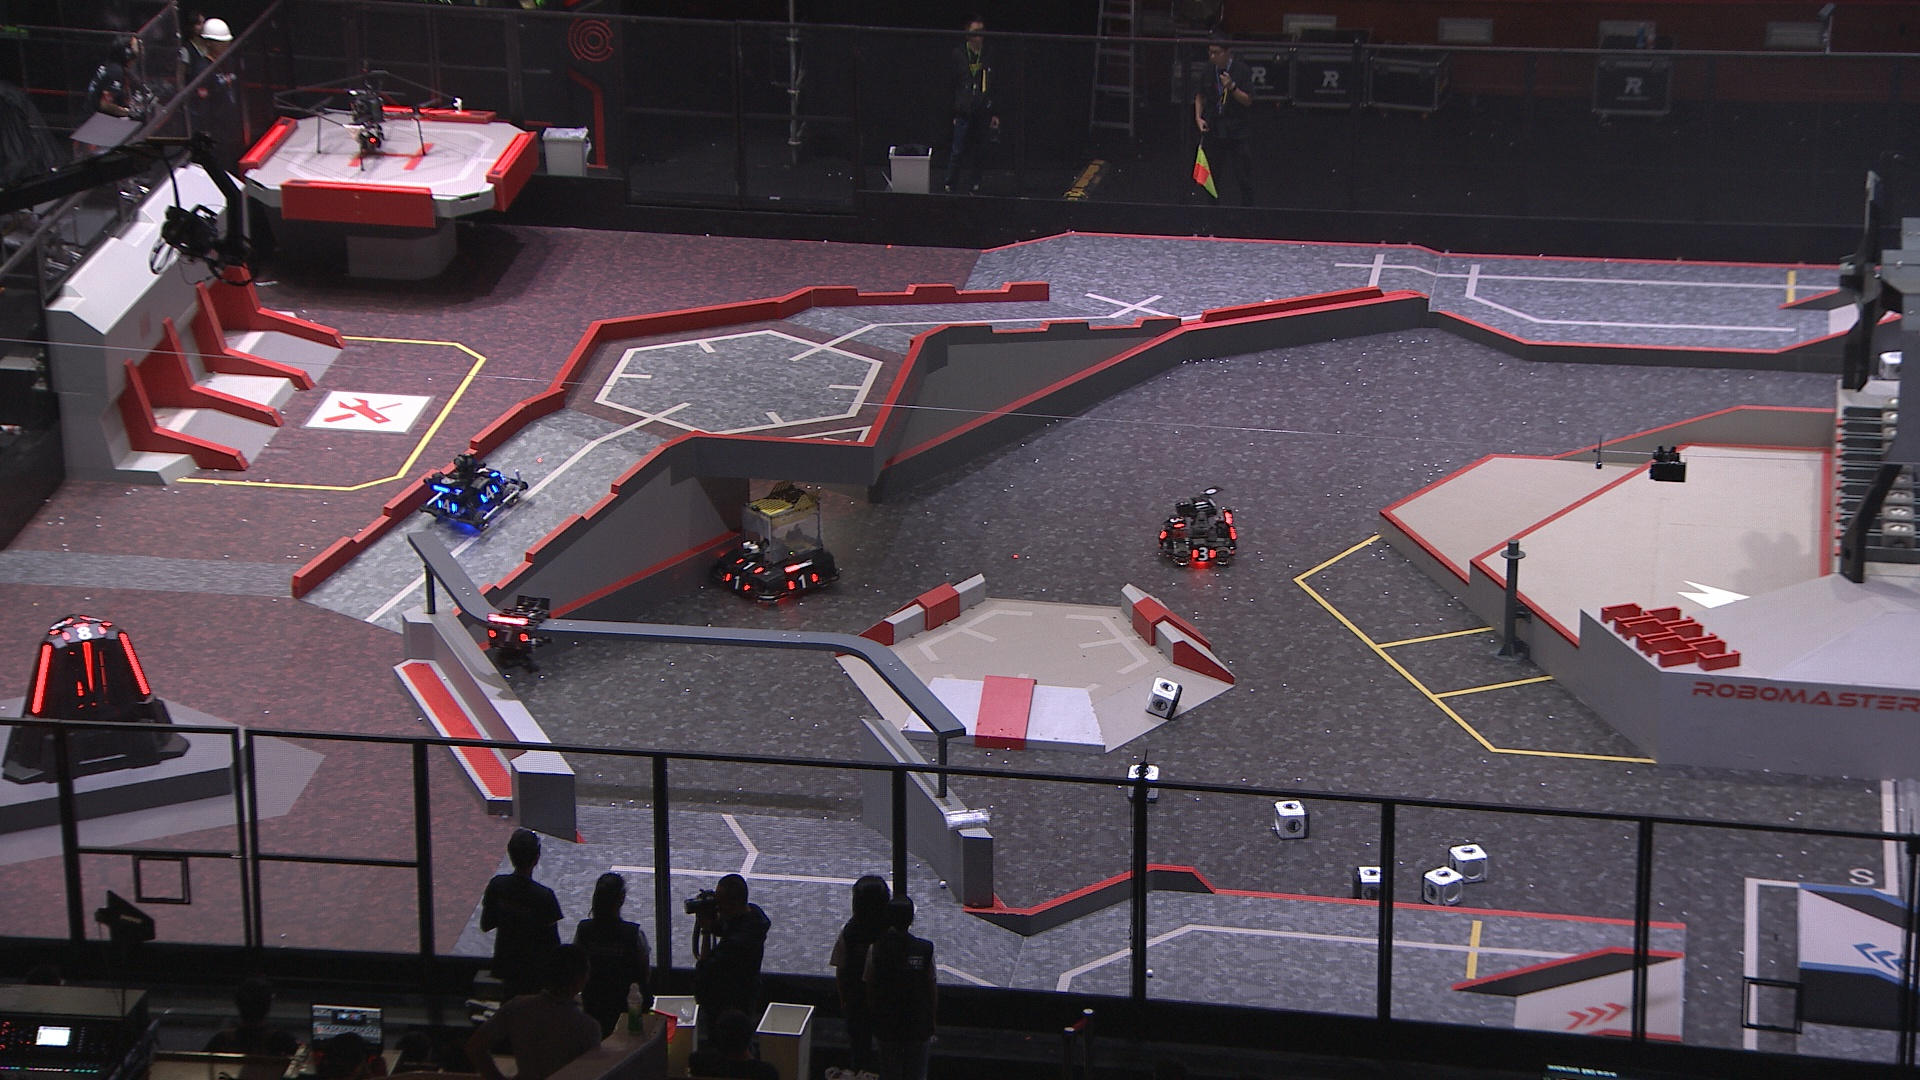armor: (117, 629, 150, 699), (29, 641, 53, 716), (483, 622, 531, 646), (58, 622, 109, 645), (785, 568, 820, 593), (723, 570, 754, 593), (732, 553, 765, 575), (82, 642, 96, 692), (479, 481, 498, 504), (1188, 545, 1215, 560), (436, 498, 460, 516), (47, 616, 67, 636), (476, 462, 498, 479), (84, 616, 113, 628), (1168, 512, 1185, 531), (1156, 520, 1168, 542)
car: (709, 477, 843, 608), (417, 448, 537, 535), (1150, 484, 1244, 568)
watcher: (479, 593, 556, 676)
